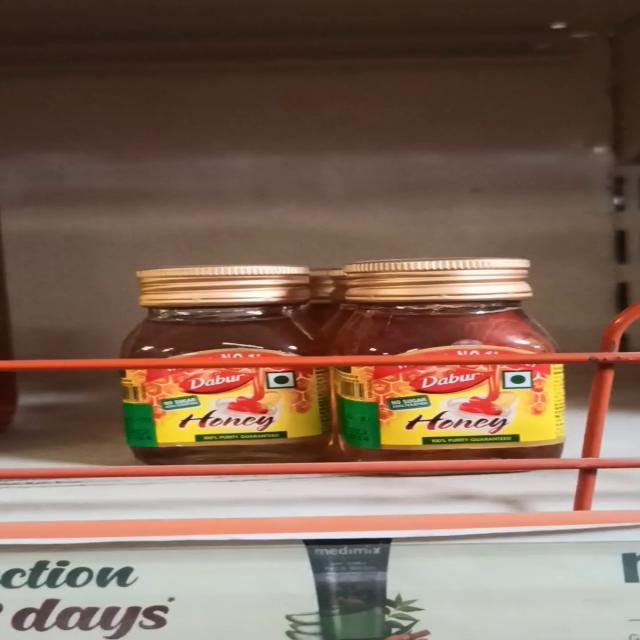Dabur Honey: (340, 262, 570, 462), (122, 264, 332, 460)
